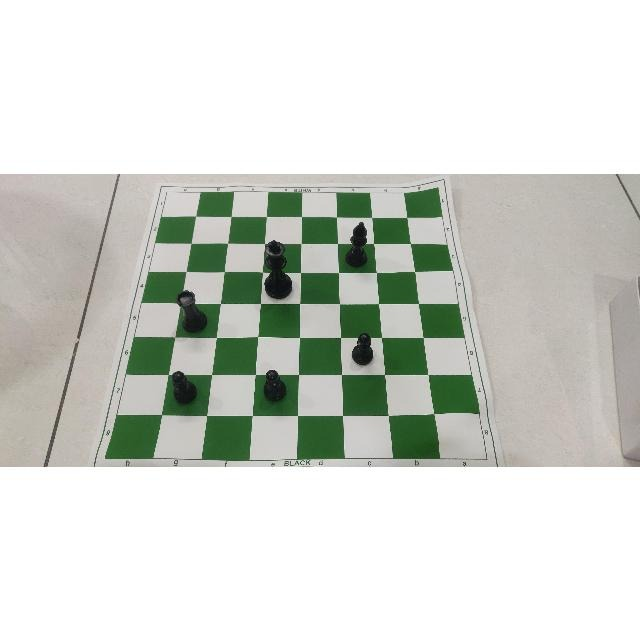black-bishop: (341, 217, 372, 271)
black-king: (263, 238, 294, 299)
black-pawn: (165, 370, 200, 406), (346, 333, 380, 366), (263, 368, 289, 403)
black-rook: (174, 291, 210, 335)
